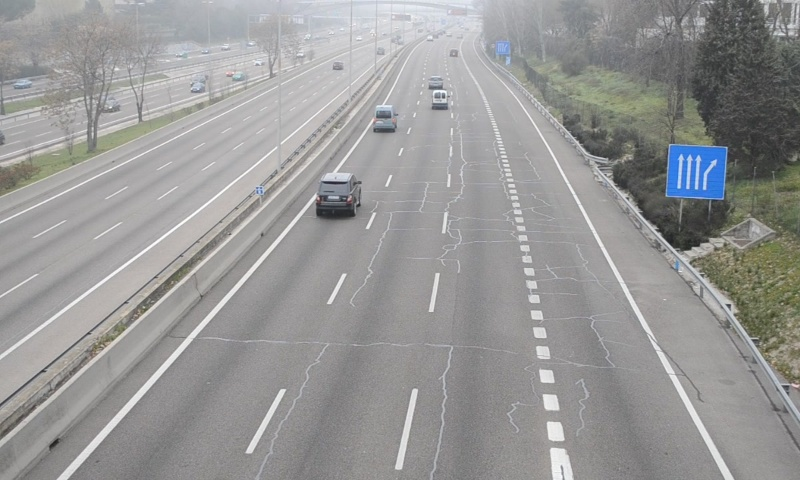car: (316, 172, 360, 214)
van: (372, 104, 396, 130), (430, 88, 448, 111)
